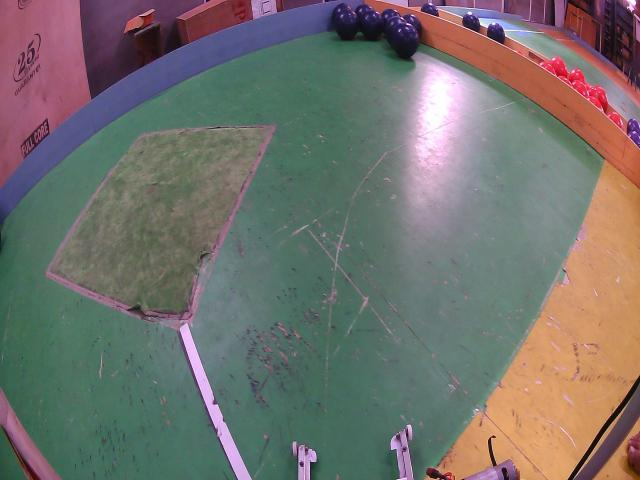jambhalya: (626, 118, 640, 135), (629, 132, 640, 148)
kaalyya: (391, 23, 419, 58), (360, 10, 384, 40), (335, 10, 359, 40), (384, 15, 406, 43), (404, 13, 422, 38), (331, 3, 351, 22), (462, 12, 480, 32), (488, 23, 505, 43), (381, 8, 400, 24), (421, 3, 439, 17), (355, 3, 371, 18)
